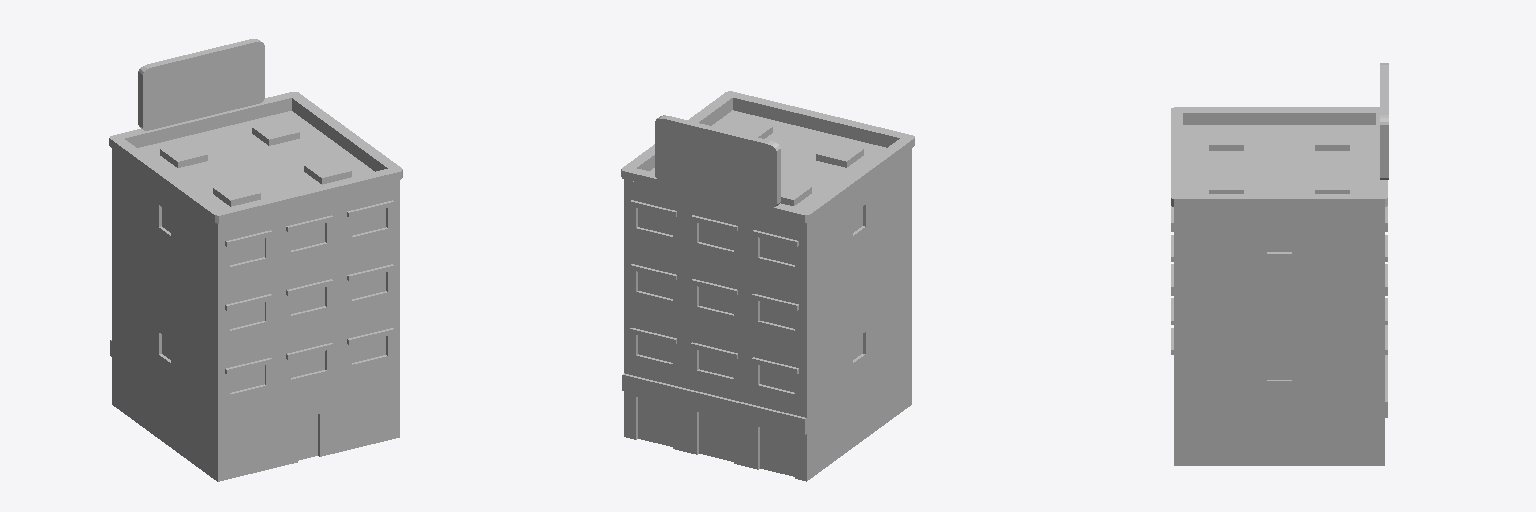
Rendered from large_building03.obj.
3 renders of one model, left to right at view 1: azimuth 30°, elevation 25°; view 2: azimuth 150°, elevation 25°; view 3: azimuth 270°, elevation 25°, orthographic.
Visible parts, largest first — view 1: large_building03.001, sign_hospital.002; view 2: large_building03.001, sign_hospital.002, Texto_Texto.004; view 3: large_building03.001, sign_hospital.002.
Boxes of the visible parts, x1,y1,x2,y2 form: large_building03.001: [109, 92, 402, 481]; sign_hospital.002: [138, 39, 264, 130]; large_building03.001: [621, 91, 914, 481]; sign_hospital.002: [655, 115, 780, 207]; Texto_Texto.004: [680, 139, 755, 180]; large_building03.001: [1171, 107, 1387, 465]; sign_hospital.002: [1380, 63, 1388, 179].
Size of the model in its own units: 1.24 by 2.07 by 1.25.